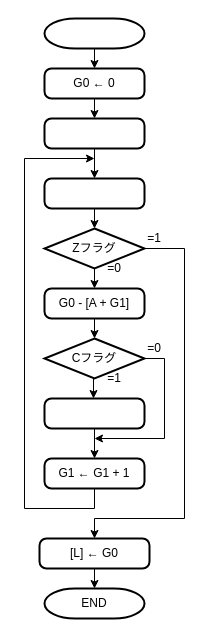
Image size: 210x636. Some labels were removed from this diagram. The box of each missing label's shape, as (x1, y1, x2, y2) in pixels:
G0 ← [A + G1]: (43, 397, 145, 429)
G1 - 5: (43, 177, 145, 209)
G1 ← 0: (43, 117, 145, 149)
START: (43, 17, 145, 49)
